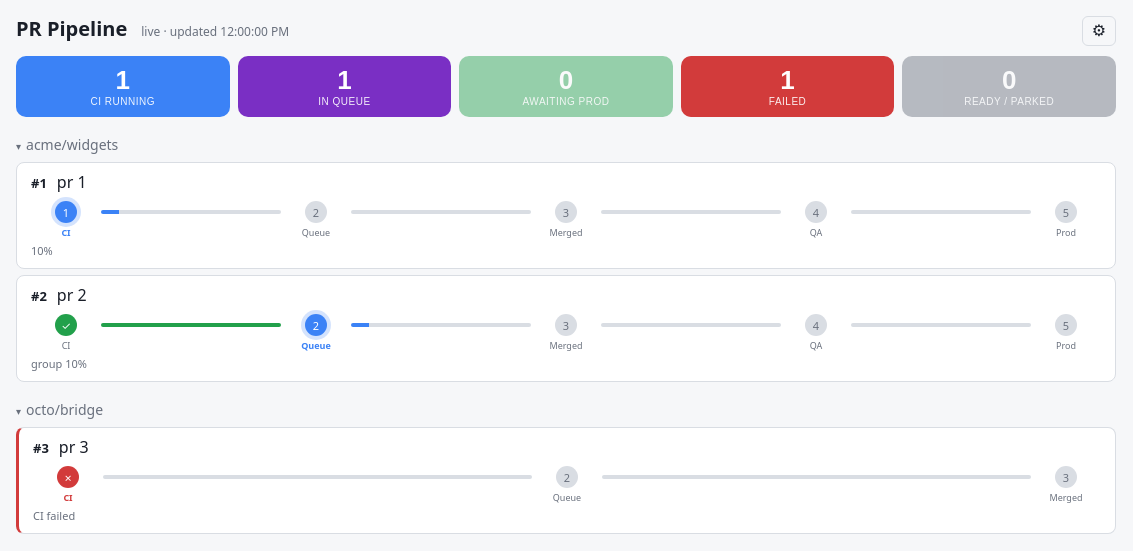
Test: Repo expand/collapse › clicking the header button collapses the repo section
The image size is (1133, 551).
Check: the text "#1" is shown, box [31, 174, 47, 192]
Check: the text "#2" is shown, box [31, 287, 47, 305]
What coordinates should you click on to do the following:
click the button "▾ acme/widgets"
I would click on:
 (72, 145)
Its box is [16, 135, 1116, 154].
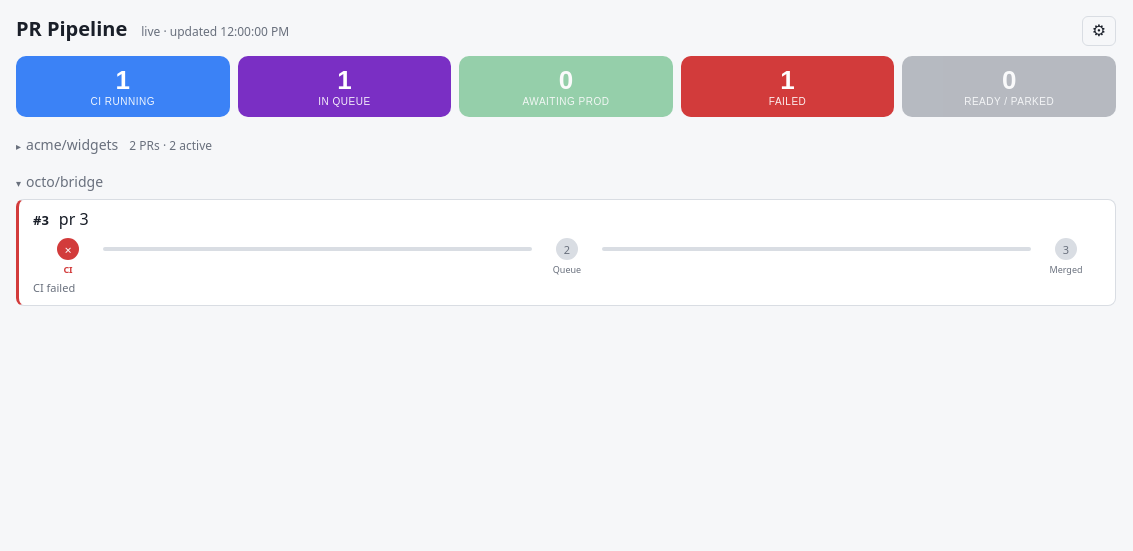
Check: the text "#1" is gone
Check: the text "#2" is gone
